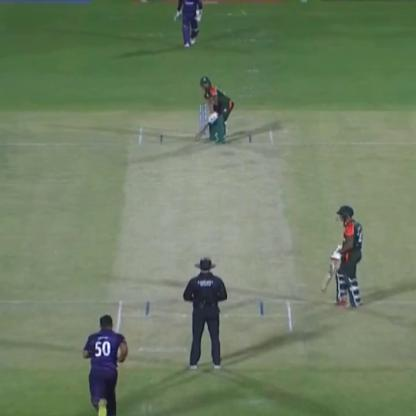bat: (317, 254, 338, 299), (193, 112, 215, 140)
pitch: (115, 108, 297, 357)
